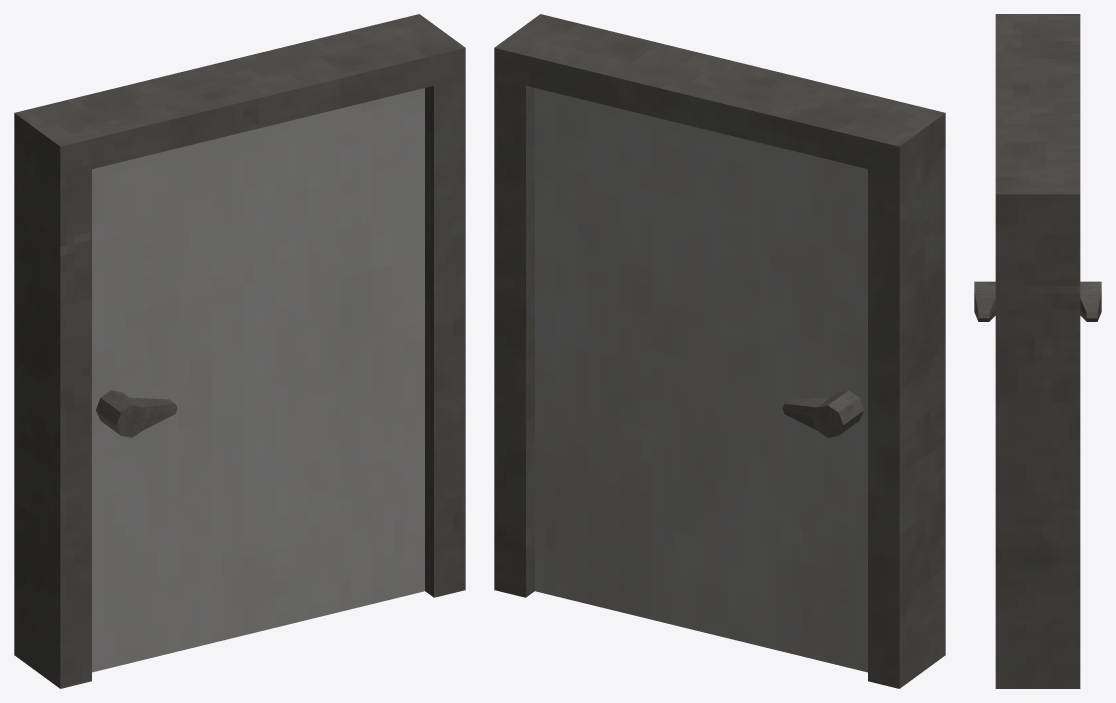
The model's file is door.glb.
The picture shows the model from 3 angles, left to right: view 1: azimuth 30°, elevation 25°; view 2: azimuth 150°, elevation 25°; view 3: azimuth 270°, elevation 25°; orthographic projection. The views are drawn at different scales.
Visible parts, largest first — view 1: Door, Arc, Knob; view 2: Door, Arc, Knob; view 3: Arc, Knob.
Boxes of the visible parts, x1=… form: Door: x1=92, y1=88, x2=424, y2=672; Arc: x1=14, y1=14, x2=465, y2=688; Knob: x1=96, y1=390, x2=177, y2=437; Door: x1=535, y1=88, x2=867, y2=672; Arc: x1=494, y1=14, x2=945, y2=688; Knob: x1=782, y1=390, x2=863, y2=437; Arc: x1=995, y1=14, x2=1080, y2=688; Knob: x1=974, y1=281, x2=1101, y2=321.
Size of what is drawn, in the model's own units: 1.66 by 2.12 by 0.4933.
1 material, 1 textured.
